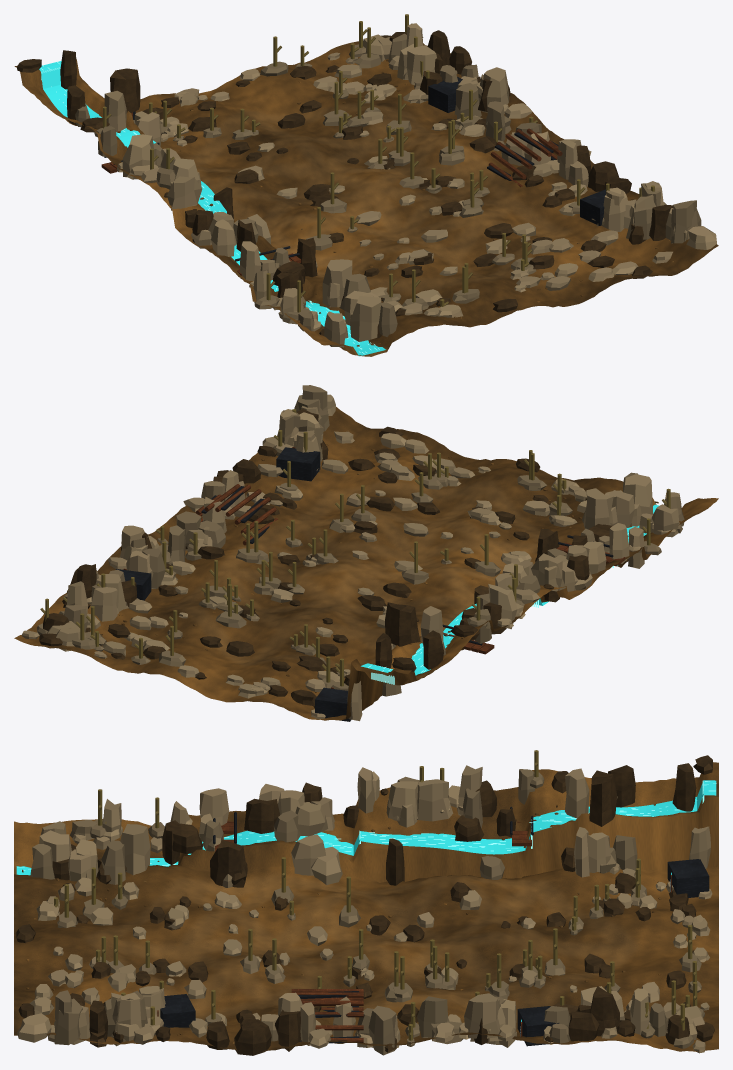
File: world_3.glb
The picture shows the model from 3 angles, top to bottom: view 1: azimuth 30°, elevation 25°; view 2: azimuth 150°, elevation 25°; view 3: azimuth 270°, elevation 25°; orthographic projection. The views are drawn at different scales.
Visible parts, largest first — view 1: Terrain / sculpted relief.003, Flora / scattered miniatures.003, Cliffs / fractured strata.003, Ruins / abandoned machinery.003, Water / falls and currents.003; view 2: Terrain / sculpted relief.003, Flora / scattered miniatures.003, Cliffs / fractured strata.003, Ruins / abandoned machinery.003, Water / falls and currents.003; view 3: Terrain / sculpted relief.003, Cliffs / fractured strata.003, Flora / scattered miniatures.003, Ruins / abandoned machinery.003, Water / falls and currents.003.
Boxes of the visible parts, <box> form: Terrain / sculpted relief.003: <box>14,41,718,356</box>; Flora / scattered miniatures.003: <box>17,14,672,335</box>; Cliffs / fractured strata.003: <box>60,23,716,347</box>; Ruins / abandoned machinery.003: <box>101,77,605,275</box>; Water / falls and currents.003: <box>39,61,385,356</box>; Terrain / sculpted relief.003: <box>14,407,718,720</box>; Flora / scattered miniatures.003: <box>21,409,682,719</box>; Cliffs / fractured strata.003: <box>43,385,684,721</box>; Ruins / abandoned machinery.003: <box>116,447,625,721</box>; Water / falls and currents.003: <box>361,504,659,684</box>; Terrain / sculpted relief.003: <box>14,762,718,1052</box>; Cliffs / fractured strata.003: <box>17,763,710,1055</box>; Flora / scattered miniatures.003: <box>16,750,714,1053</box>; Ruins / abandoned machinery.003: <box>157,806,709,1046</box>; Water / falls and currents.003: <box>16,780,716,875</box>.
Bounding box in the file's own units: 9.57 × 2.2 × 12.7.
13 materials, 5 textured.
